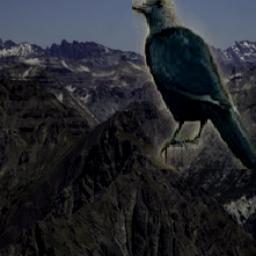Crow: (132, 0, 256, 170)
